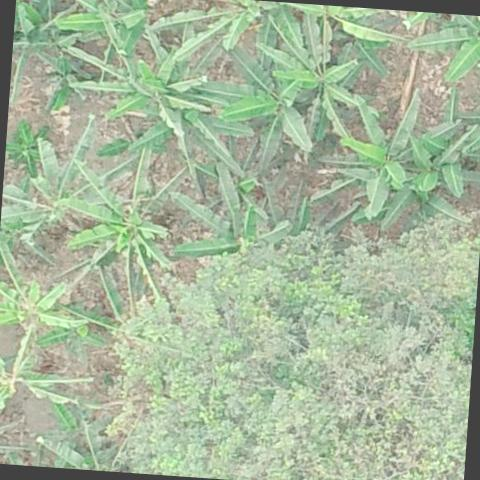Banana-plant: (50, 139, 196, 323), (54, 12, 216, 154), (0, 102, 142, 257), (319, 85, 460, 220), (210, 39, 325, 173), (168, 162, 296, 276), (248, 40, 382, 142), (140, 0, 307, 72), (374, 123, 480, 234), (0, 319, 99, 425), (9, 0, 83, 109), (414, 100, 480, 204), (0, 271, 97, 341), (269, 2, 420, 46), (403, 11, 480, 93), (4, 119, 61, 184)
